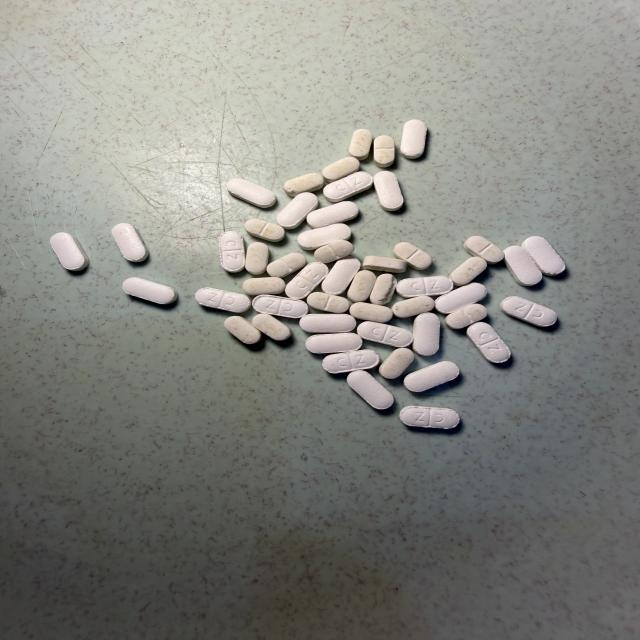pill: (347, 370, 394, 409), (467, 322, 510, 363), (404, 361, 459, 392), (522, 237, 565, 275), (501, 297, 557, 326), (285, 262, 328, 299), (276, 192, 318, 229), (436, 283, 486, 314), (504, 246, 542, 286), (323, 172, 373, 202), (123, 277, 177, 304), (50, 233, 88, 271), (322, 257, 360, 294), (112, 223, 148, 262), (297, 224, 351, 250), (357, 322, 413, 347), (227, 179, 275, 208), (307, 201, 358, 228), (195, 288, 250, 313), (400, 406, 459, 429), (252, 295, 308, 318), (323, 350, 379, 373), (396, 276, 454, 298), (305, 333, 362, 353), (413, 313, 440, 355), (374, 172, 403, 211), (464, 236, 504, 264), (449, 257, 487, 286), (379, 348, 414, 379), (219, 231, 245, 272), (300, 314, 355, 333), (224, 316, 261, 344), (446, 304, 487, 329), (252, 314, 291, 340), (394, 242, 431, 269), (401, 120, 426, 159), (322, 156, 359, 182), (284, 172, 324, 196), (267, 253, 306, 277), (347, 270, 376, 302), (314, 240, 353, 263), (307, 292, 349, 313), (392, 296, 434, 317), (349, 302, 392, 322), (245, 219, 284, 241), (370, 274, 396, 305), (242, 277, 285, 295), (348, 129, 372, 160), (363, 256, 406, 273), (246, 243, 268, 274), (374, 135, 394, 167)
